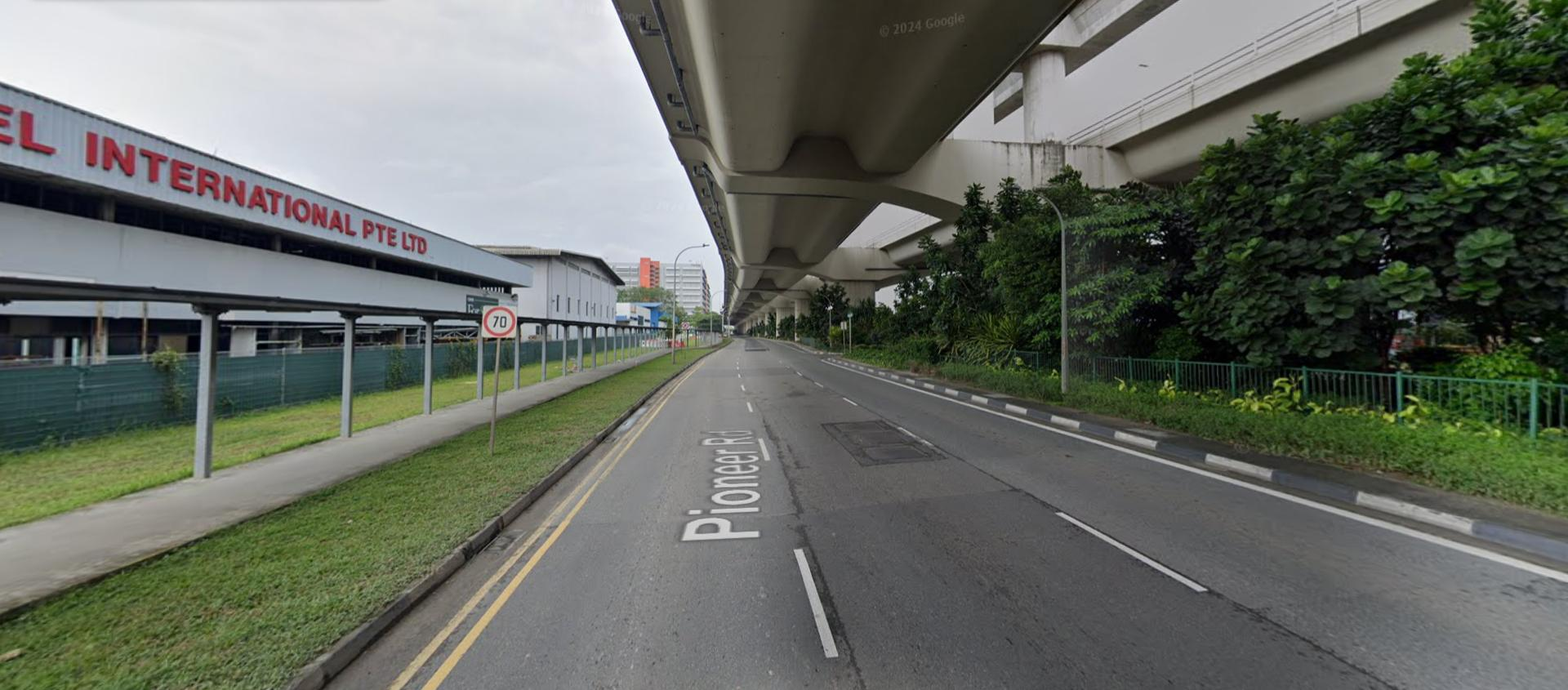normal: (486, 531, 525, 551)
